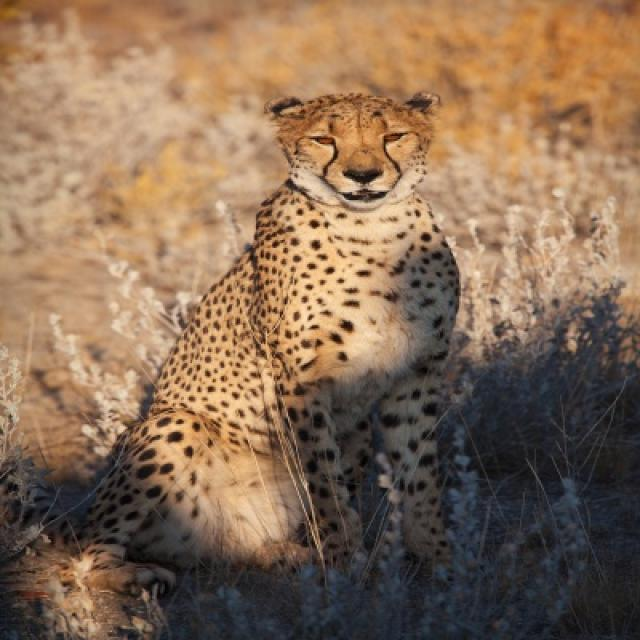Cheetah: (88, 91, 462, 574)
